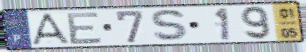1: (213, 6, 235, 42)
7: (114, 10, 146, 44)
9: (238, 6, 274, 41)
A: (30, 12, 73, 47)
E: (65, 10, 105, 46)
S: (149, 8, 193, 43)
